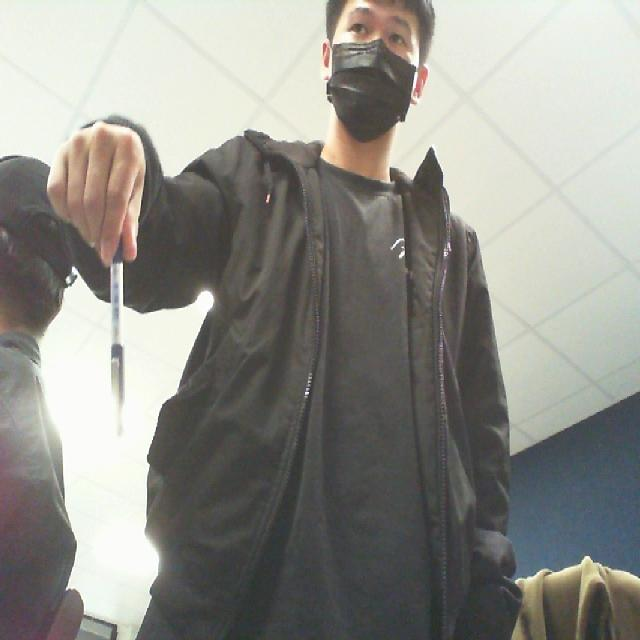Pen: (93, 225, 142, 488)
